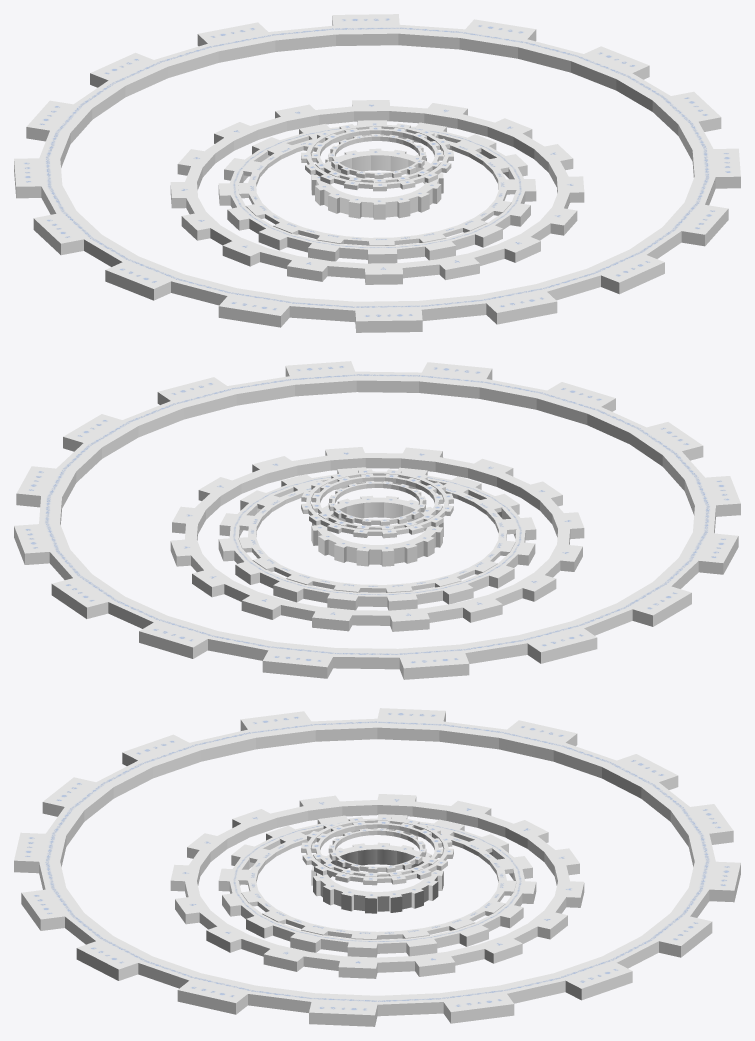
Rendered from stage05_tooth01.FBX.
The picture shows the model from 3 angles, top to bottom: view 1: azimuth 30°, elevation 25°; view 2: azimuth 150°, elevation 25°; view 3: azimuth 270°, elevation 25°; orthographic projection.
Visible parts, largest first — view 1: Object001, Object002, Object003, Object005, Tube046, Object004, Object007, Object006; view 2: Object001, Object002, Object003, Object005, Tube046, Object004, Object007, Object006; view 3: Object001, Object002, Object003, Object005, Tube046, Object004, Object007, Object006.
Part boxes in pixels (left/top/right/bottom): Object001: left=14, top=14, right=740, bottom=332; Object002: left=170, top=100, right=584, bottom=284; Object003: left=218, top=120, right=536, bottom=263; Object005: left=238, top=131, right=516, bottom=245; Tube046: left=311, top=148, right=443, bottom=219; Object004: left=301, top=122, right=453, bottom=191; Object007: left=311, top=126, right=443, bottom=182; Object006: left=328, top=134, right=426, bottom=178; Object001: left=14, top=361, right=740, bottom=679; Object002: left=170, top=447, right=584, bottom=631; Object003: left=218, top=467, right=536, bottom=610; Object005: left=238, top=481, right=516, bottom=592; Tube046: left=311, top=495, right=443, bottom=566; Object004: left=301, top=469, right=453, bottom=538; Object007: left=311, top=473, right=443, bottom=529; Object006: left=328, top=481, right=426, bottom=525; Object001: left=14, top=708, right=740, bottom=1026; Object002: left=170, top=794, right=584, bottom=978; Object003: left=218, top=814, right=536, bottom=957; Object005: left=238, top=827, right=516, bottom=939; Tube046: left=311, top=842, right=443, bottom=913; Object004: left=301, top=816, right=453, bottom=885; Object007: left=311, top=820, right=443, bottom=876; Object006: left=328, top=828, right=426, bottom=872.
Bounding box in the file's own units: 592 × 38.5 × 592.
Materials: 1 (1 with a texture image).
